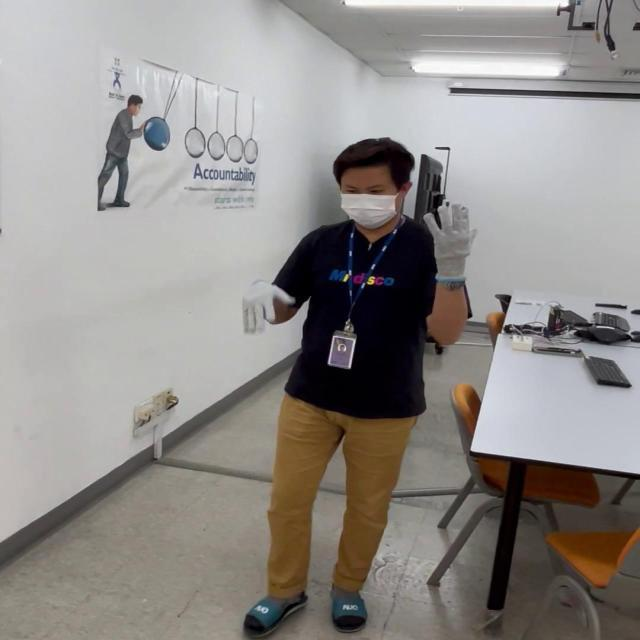gloved_hand: (423, 200, 473, 286), (247, 271, 305, 335)
